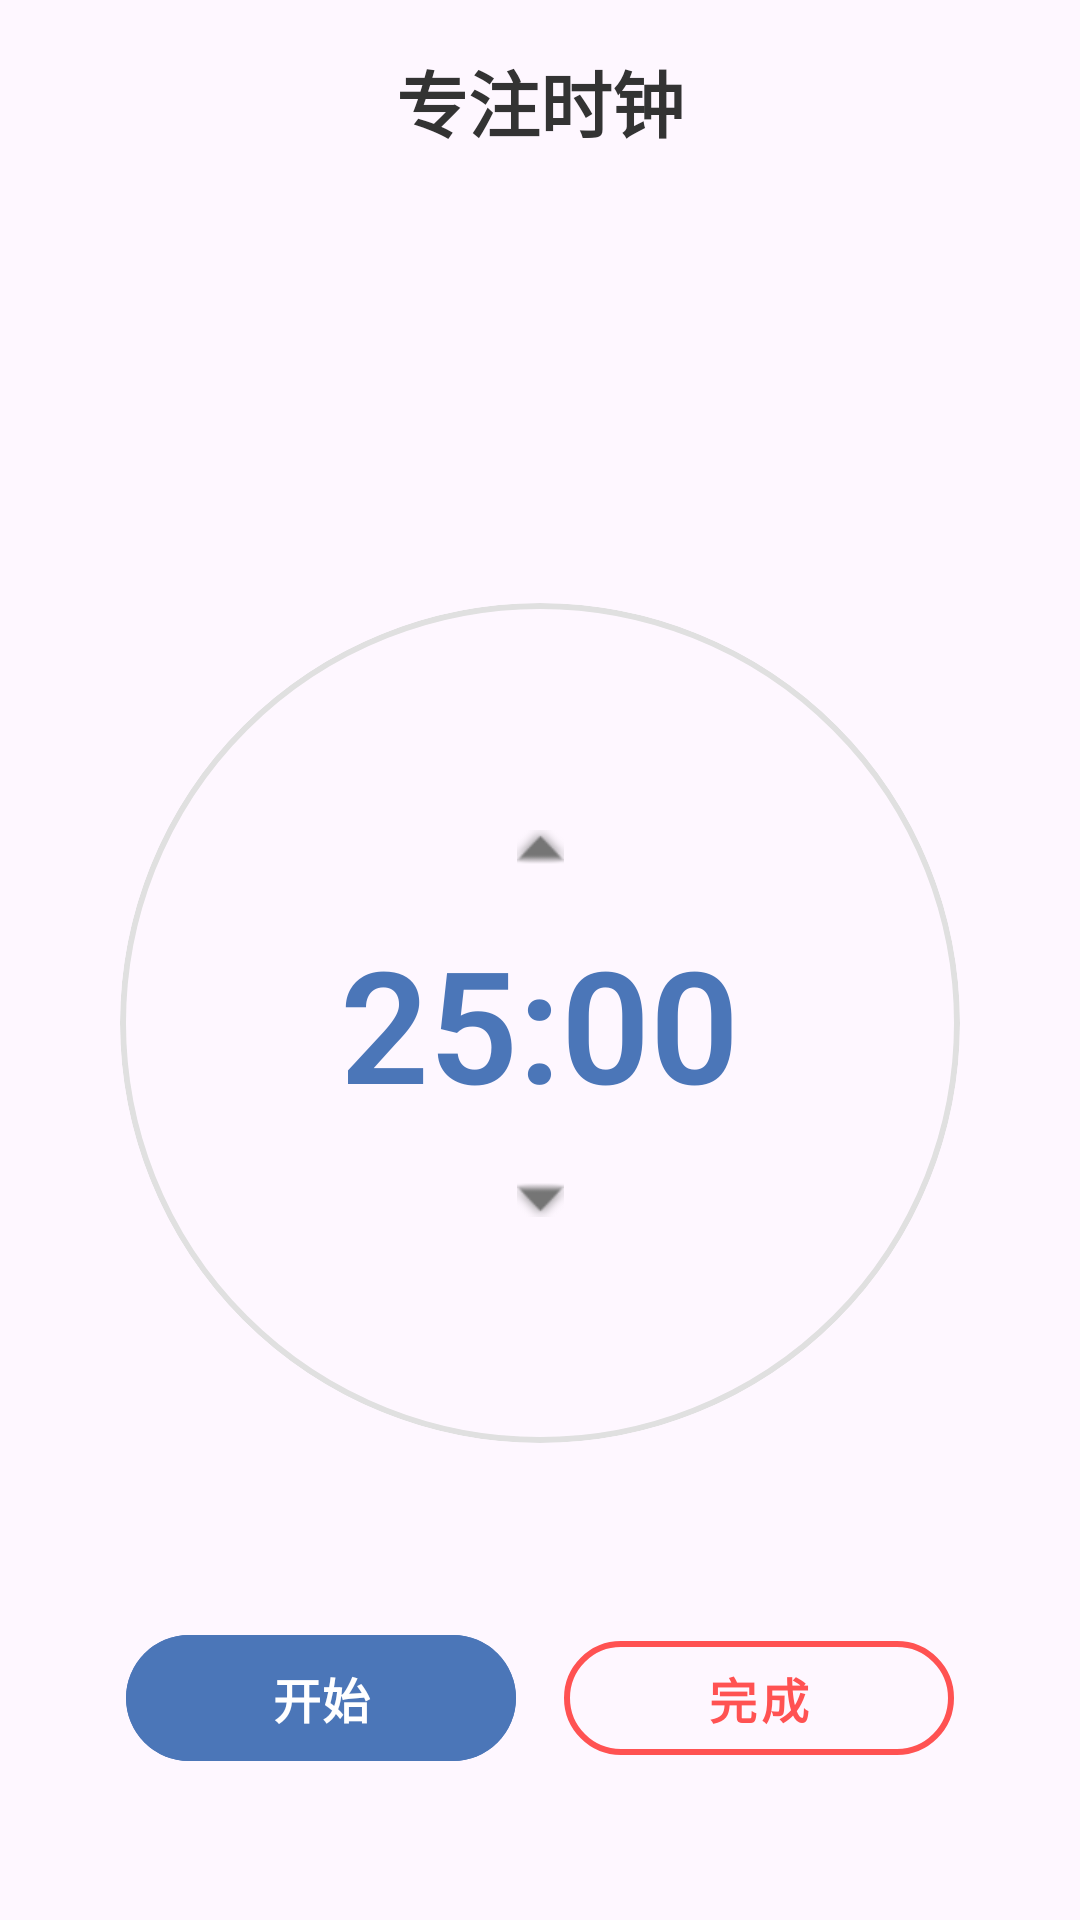

Screen size 1080*1920. Icon name, then its box in pixels as (left=x1, top=y1, right=x2, bottom=y2):
arrow down float: (left=517, top=1185, right=564, bottom=1213)
arrow up float: (left=517, top=834, right=564, bottom=862)
